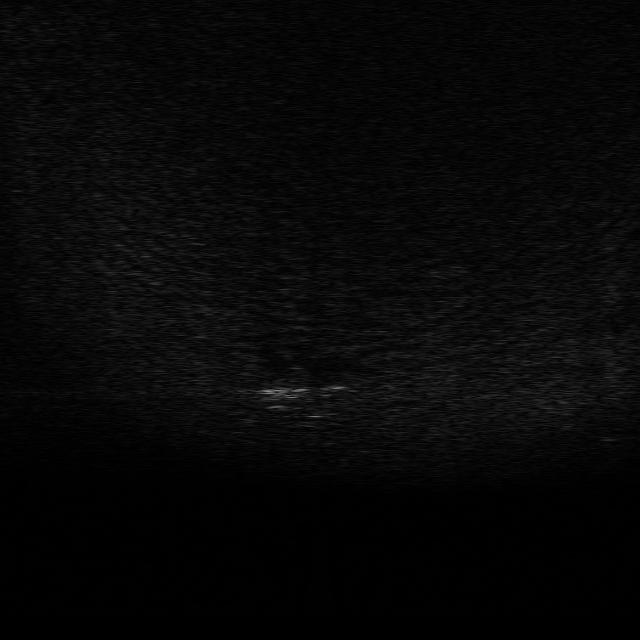plane: (249, 363, 350, 419)
